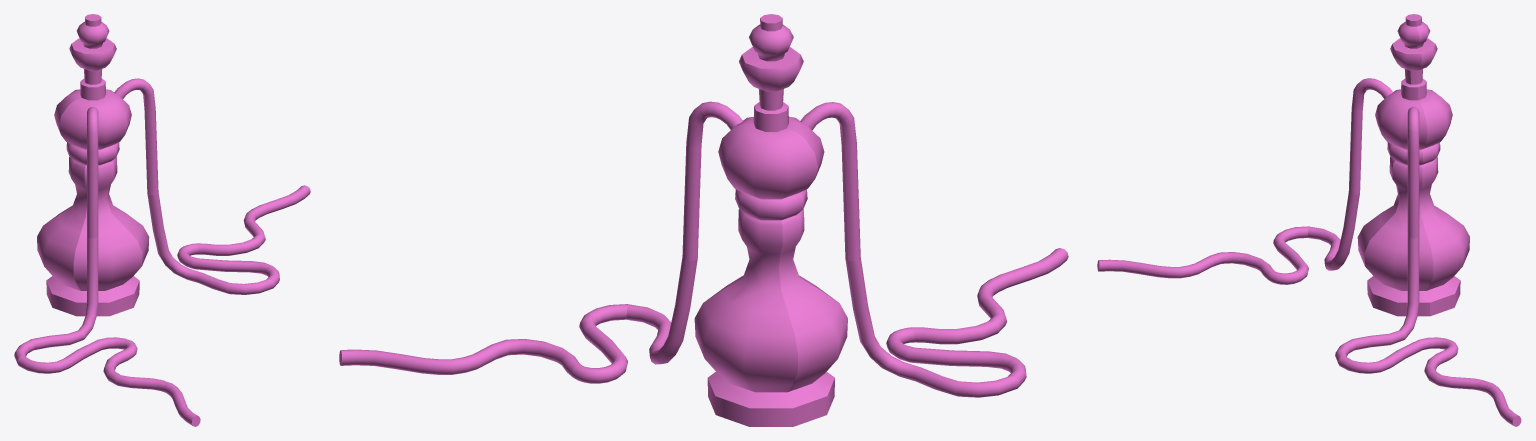
File: SM_Magic_Bottle_2.fbx
3 views of the same model, side by side, from view 1: azimuth 30°, elevation 25°; view 2: azimuth 150°, elevation 25°; view 3: azimuth 270°, elevation 25° (orthographic). The views are drawn at different scales.
Visible parts, largest first — view 1: SM_Magic_Bottle_2; view 2: SM_Magic_Bottle_2; view 3: SM_Magic_Bottle_2.
Boxes of the visible parts, bbox=[...] form: SM_Magic_Bottle_2: bbox=[14, 14, 310, 426]; SM_Magic_Bottle_2: bbox=[339, 14, 1068, 426]; SM_Magic_Bottle_2: bbox=[1097, 14, 1521, 426].
Bounding box in the file's own units: 1.26 × 0.8534 × 1.17.
